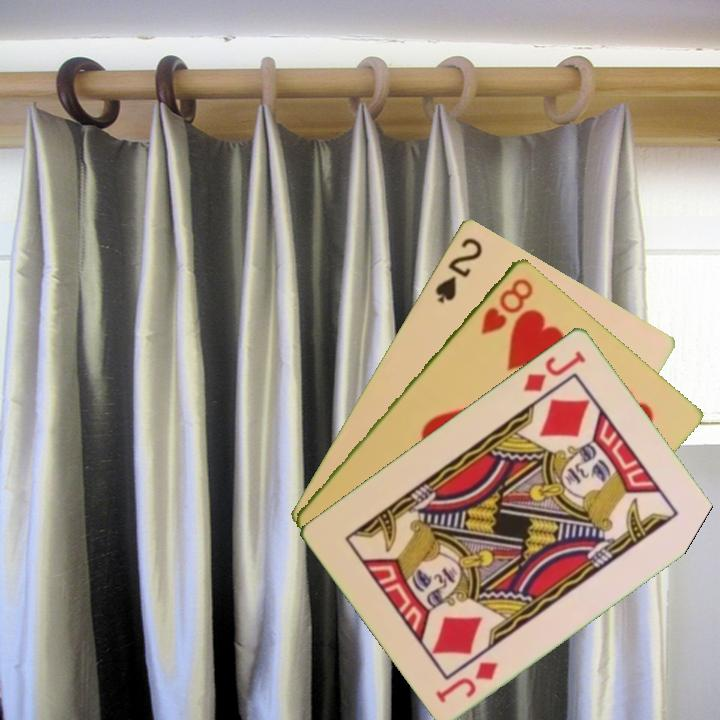2s: (431, 233, 486, 306)
8h: (477, 274, 536, 337)
Jd: (519, 346, 589, 395), (432, 657, 501, 706)
